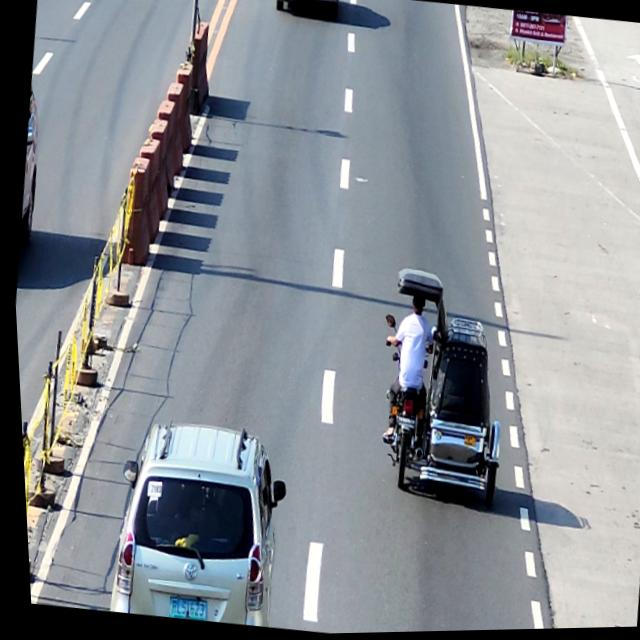Car: (94, 415, 293, 632), (275, 0, 339, 18)
License-Plate: (159, 596, 200, 622)
Tricycle: (360, 266, 518, 510)
